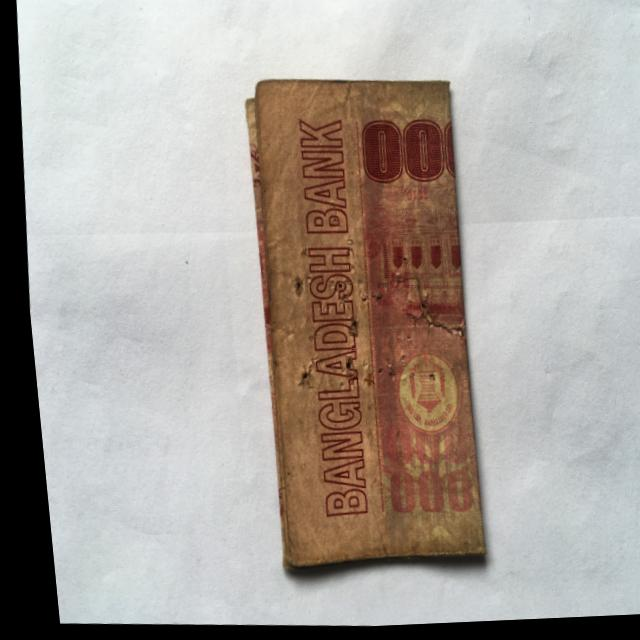Taka: (220, 63, 503, 578)
